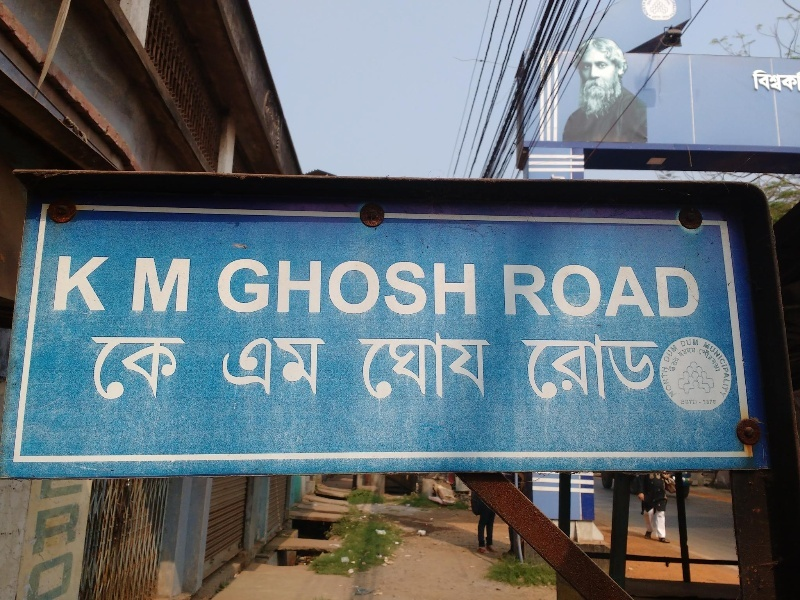text: (49, 474, 64, 599), (65, 474, 80, 599), (673, 331, 688, 410), (689, 331, 704, 410), (705, 331, 720, 410), (529, 329, 544, 405), (545, 329, 560, 405), (561, 329, 576, 405), (577, 329, 592, 405), (593, 329, 608, 405), (609, 329, 624, 405), (625, 329, 640, 405), (641, 329, 656, 405), (97, 333, 112, 402), (113, 333, 128, 402), (129, 333, 144, 402), (145, 333, 160, 402), (161, 333, 176, 402), (40, 474, 48, 599), (369, 332, 384, 398), (385, 332, 400, 398), (401, 332, 416, 398), (417, 332, 432, 398), (433, 332, 448, 398), (449, 332, 464, 398), (465, 332, 480, 398), (145, 251, 160, 315), (161, 251, 176, 315), (177, 251, 192, 315), (225, 333, 240, 396), (241, 333, 256, 396), (257, 333, 272, 396), (273, 333, 288, 396), (289, 333, 304, 396), (305, 333, 320, 396), (689, 262, 705, 319), (193, 251, 207, 315), (81, 474, 88, 599), (65, 255, 80, 313), (81, 255, 96, 313), (721, 331, 732, 410), (225, 258, 240, 315), (241, 258, 256, 315), (257, 258, 272, 315), (273, 258, 288, 315), (289, 258, 304, 315), (305, 258, 320, 315), (321, 258, 336, 315), (337, 258, 352, 315), (353, 258, 368, 315), (369, 258, 384, 315), (385, 258, 400, 315), (401, 258, 416, 315), (417, 258, 432, 315), (433, 258, 448, 315), (449, 258, 464, 315), (465, 258, 480, 315), (497, 262, 512, 319), (513, 262, 528, 319), (529, 262, 544, 319), (545, 262, 560, 319), (561, 262, 576, 319), (577, 262, 592, 319), (593, 262, 608, 319), (609, 262, 624, 319), (625, 262, 640, 319), (641, 262, 656, 319), (657, 262, 672, 319), (673, 262, 688, 319), (84, 333, 96, 402), (97, 255, 111, 313), (481, 332, 493, 398), (662, 331, 672, 410), (177, 333, 188, 402), (357, 332, 368, 398), (521, 329, 528, 405), (215, 258, 224, 315), (136, 251, 144, 315), (753, 66, 768, 97), (769, 66, 784, 97), (785, 66, 798, 97), (657, 329, 662, 405), (321, 333, 326, 396), (60, 255, 64, 313), (481, 258, 483, 315), (749, 66, 752, 97), (495, 262, 496, 319)
